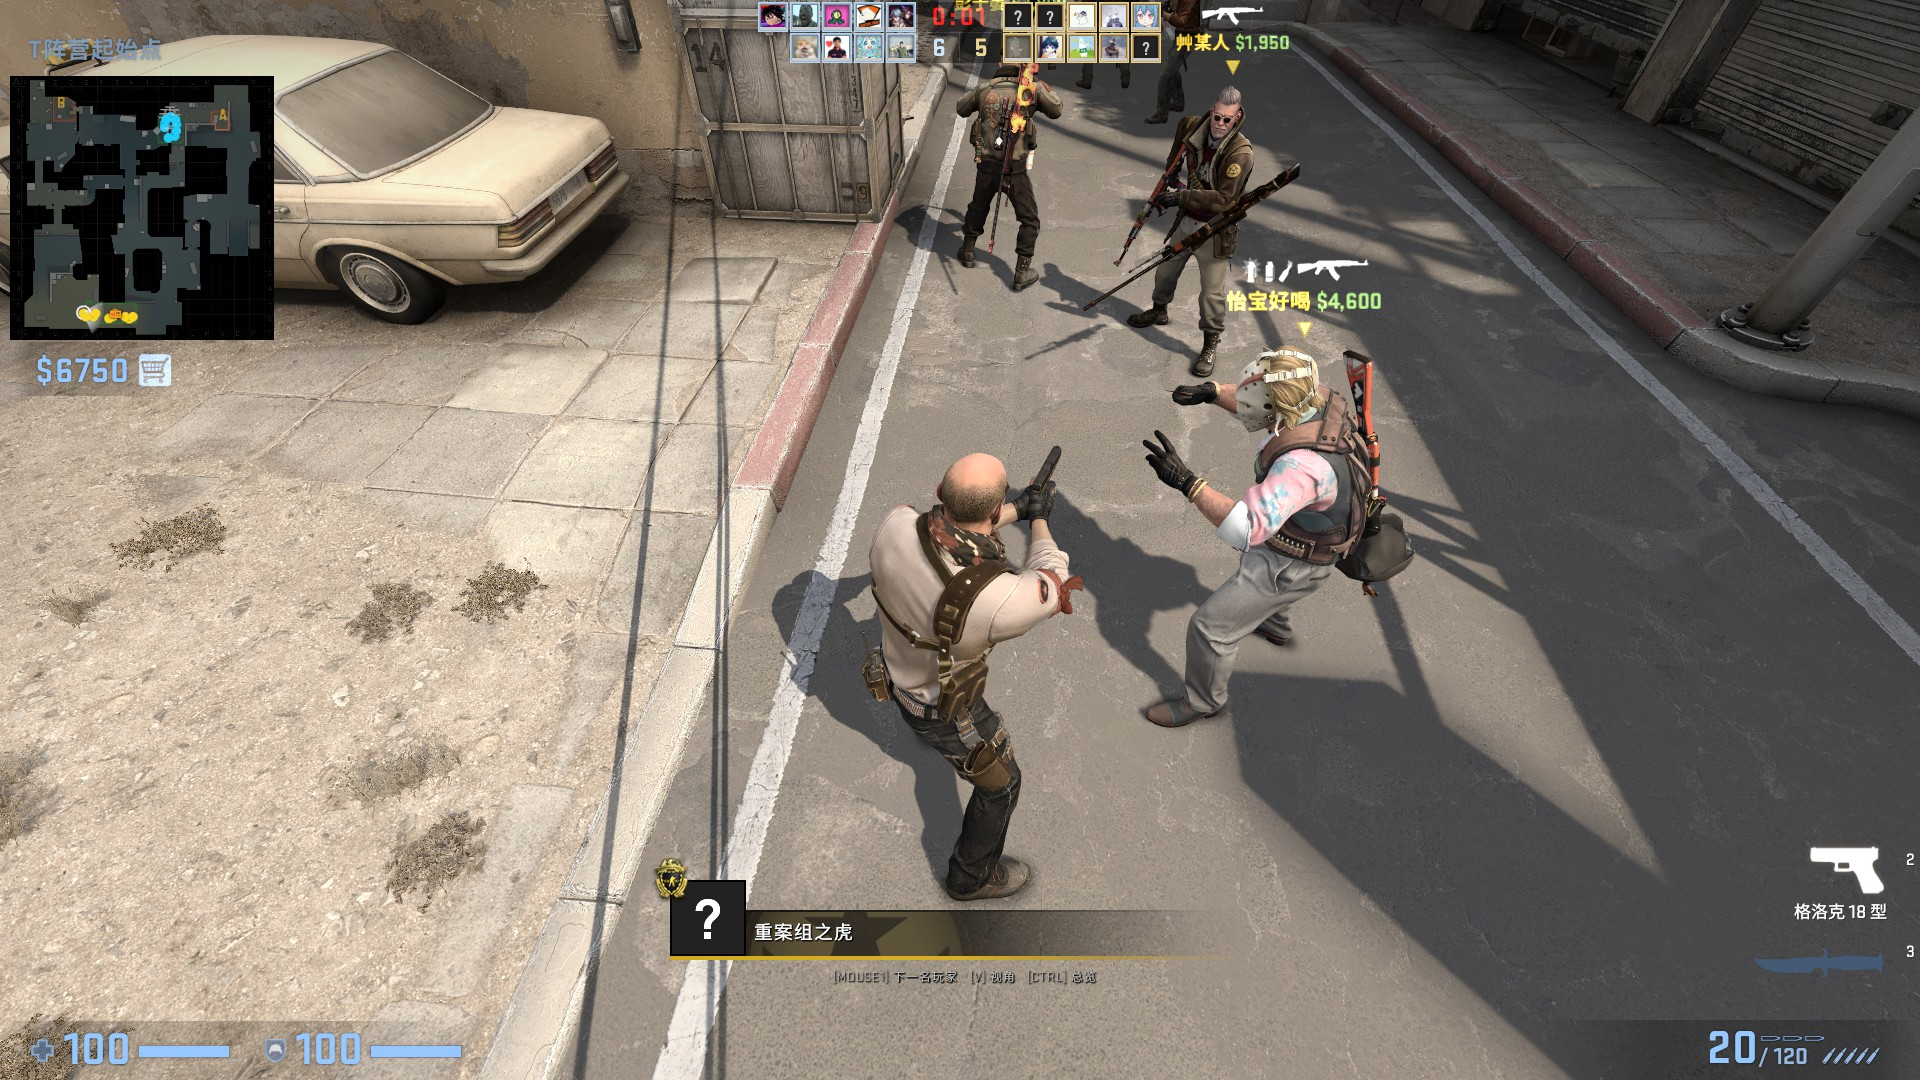head: (1232, 345, 1320, 433), (935, 450, 1007, 539), (1208, 86, 1242, 139), (994, 46, 1027, 70)
